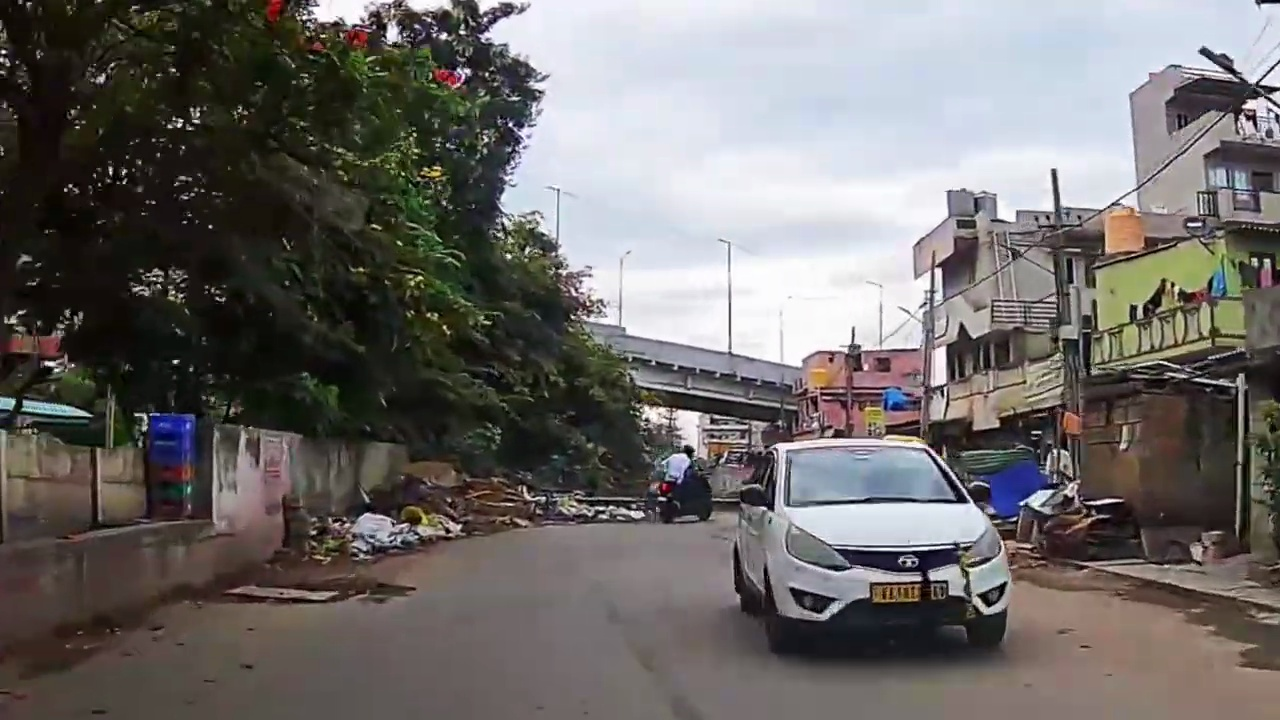garbage: (341, 506, 454, 555), (505, 492, 642, 524)
